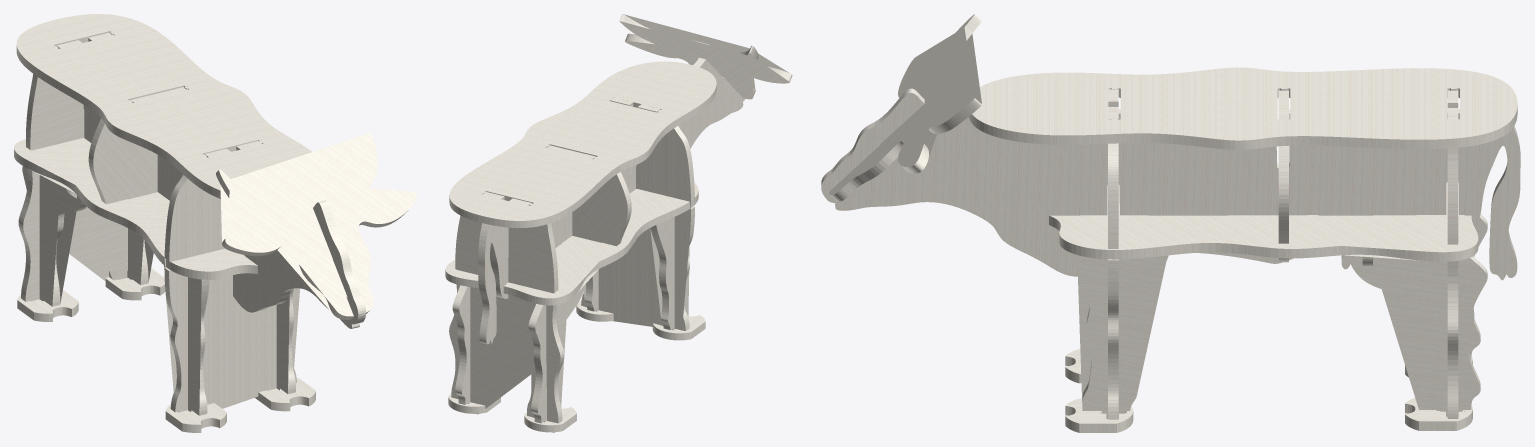
Rendered from Wood Cow Final 1.fbx.
The picture shows the model from 3 angles, left to right: view 1: azimuth 30°, elevation 25°; view 2: azimuth 150°, elevation 25°; view 3: azimuth 270°, elevation 25°; orthographic projection. The views are drawn at different scales.
Visible parts, largest first — view 1: polySurface995, polySurface5542, polySurface10609, polySurface5965, polySurface6340, polySurface4256, polySurface6946, polySurface2208, polySurface10615, polySurface3749, polySurface10618, polySurface10617 (+3 smaller); view 2: polySurface995, polySurface5965, polySurface10609, polySurface4256, polySurface6340, polySurface5542, polySurface6946, polySurface2208, polySurface10615, polySurface10614, polySurface10618, polySurface10610 (+4 smaller); view 3: polySurface4256, polySurface995, polySurface10619, polySurface10614, polySurface3749, polySurface5542, polySurface5965, polySurface10609, polySurface10617, polySurface6946, polySurface10616.
Part boxes in pixels (<box>): polySurface995: <box>16,14,311,198</box>; polySurface5542: <box>216,132,416,319</box>; polySurface10609: <box>164,141,300,412</box>; polySurface5965: <box>18,32,127,301</box>; polySurface6340: <box>14,138,257,279</box>; polySurface4256: <box>83,105,365,328</box>; polySurface6946: <box>88,87,187,204</box>; polySurface2208: <box>22,166,86,306</box>; polySurface10615: <box>164,265,209,415</box>; polySurface3749: <box>276,289,295,393</box>; polySurface10618: <box>165,403,226,432</box>; polySurface10617: <box>255,378,315,411</box>; polySurface995: <box>449,61,716,227</box>; polySurface5965: <box>449,191,564,432</box>; polySurface10609: <box>581,97,694,330</box>; polySurface4256: <box>478,57,744,344</box>; polySurface6340: <box>503,183,698,305</box>; polySurface5542: <box>619,14,792,99</box>; polySurface6946: <box>546,145,631,246</box>; polySurface2208: <box>528,284,585,423</box>; polySurface10615: <box>650,217,689,330</box>; polySurface10614: <box>452,285,470,404</box>; polySurface10618: <box>652,315,705,340</box>; polySurface10610: <box>524,407,576,432</box>; polySurface4256: <box>821,88,1520,280</box>; polySurface995: <box>969,67,1517,149</box>; polySurface10619: <box>1049,213,1478,261</box>; polySurface10614: <box>1347,255,1487,416</box>; polySurface3749: <box>1077,255,1168,418</box>; polySurface5542: <box>829,14,981,201</box>; polySurface5965: <box>1447,90,1458,418</box>; polySurface10609: <box>1108,89,1118,419</box>; polySurface10617: <box>1065,398,1133,432</box>; polySurface6946: <box>1278,90,1288,262</box>; polySurface10616: <box>1405,397,1472,430</box>.
Size of the model in its own units: 12.05 by 18.05 by 33.47.
Materials: 1 (1 with a texture image).
